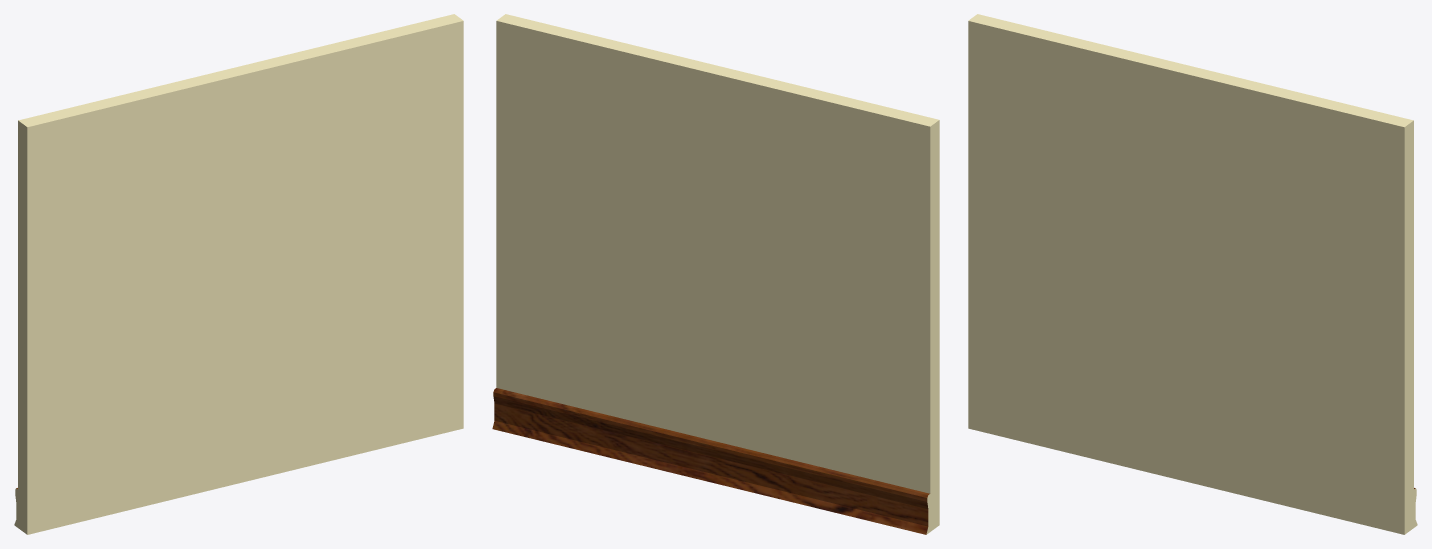
File: Duvar.fbx
3 views of the same model, side by side, from view 1: azimuth 30°, elevation 25°; view 2: azimuth 150°, elevation 25°; view 3: azimuth 330°, elevation 25° (orthographic).
Parts seen in each view (by area): view 1: Cube; view 2: Cube; view 3: Cube.
Part boxes in pixels (bbox=[...]): Cube: bbox=[14, 14, 463, 534]; Cube: bbox=[492, 14, 939, 534]; Cube: bbox=[968, 14, 1417, 534].
Size of the model in its own units: 2000 by 1786 by 106.
